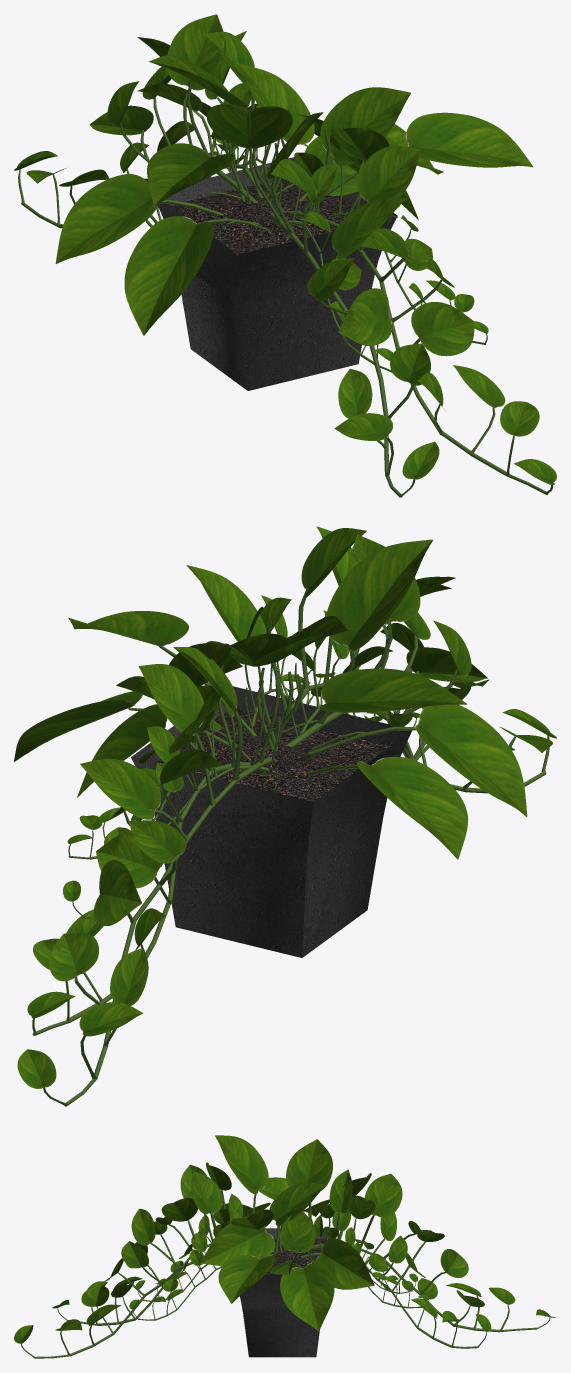
The picture shows the model from 3 angles, top to bottom: view 1: azimuth 30°, elevation 25°; view 2: azimuth 150°, elevation 25°; view 3: azimuth 270°, elevation 25°; orthographic projection. The views are drawn at different scales.
Parts seen in each view (by area): view 1: Mesh1_Pot_Half_03_1_Planter_Box_01_1_G_3D_Plant_003_1_Model; view 2: Mesh1_Pot_Half_03_1_Planter_Box_01_1_G_3D_Plant_003_1_Model; view 3: Mesh1_Pot_Half_03_1_Planter_Box_01_1_G_3D_Plant_003_1_Model.
Part boxes in pixels (x1,y1,x2,y2): Mesh1_Pot_Half_03_1_Planter_Box_01_1_G_3D_Plant_003_1_Model: (14,14,556,497); Mesh1_Pot_Half_03_1_Planter_Box_01_1_G_3D_Plant_003_1_Model: (14,526,556,1106); Mesh1_Pot_Half_03_1_Planter_Box_01_1_G_3D_Plant_003_1_Model: (14,1135,555,1358).
Size of the model in its own units: 0.5049 by 0.3671 by 0.9919.
5 materials, 4 textured.
